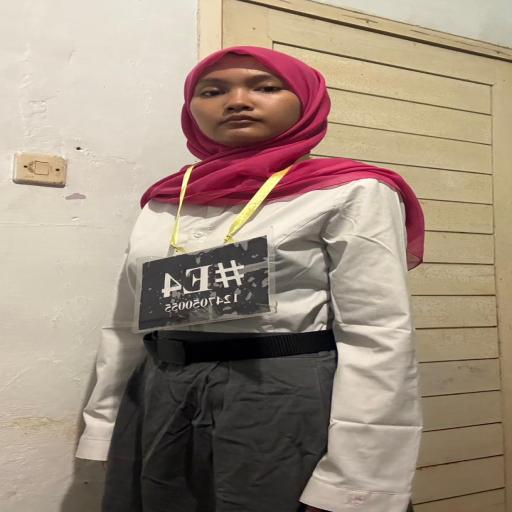kemeja_benar: (116, 182, 408, 342)
kerudung_benar: (146, 42, 376, 207)
nametag_ada: (128, 178, 274, 334)
rok_salah: (107, 360, 341, 512)
sabuk_ada: (134, 338, 358, 362)
